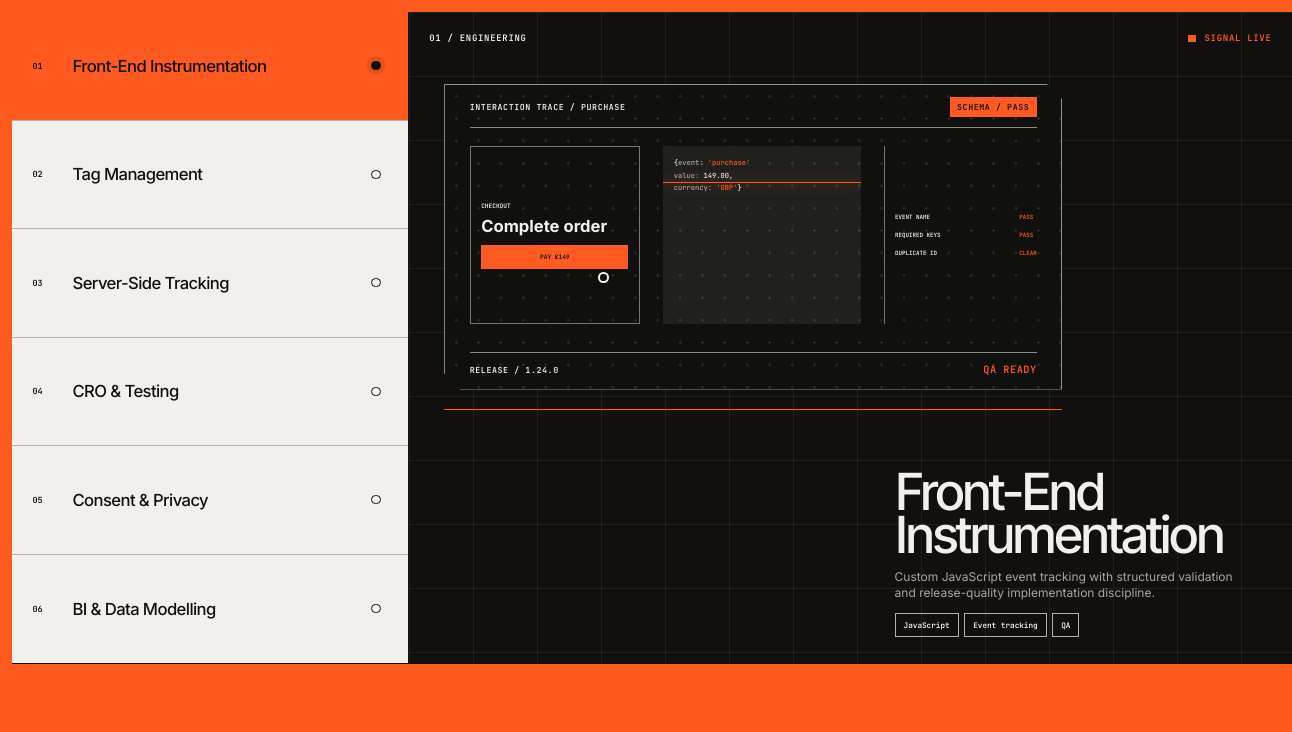
Test: cancels stale outgoing cleanup when selections change rapidly
Click the tab "02 Tag Management": (137, 174) left=12, top=120, right=408, bottom=229
Wait 240 ms
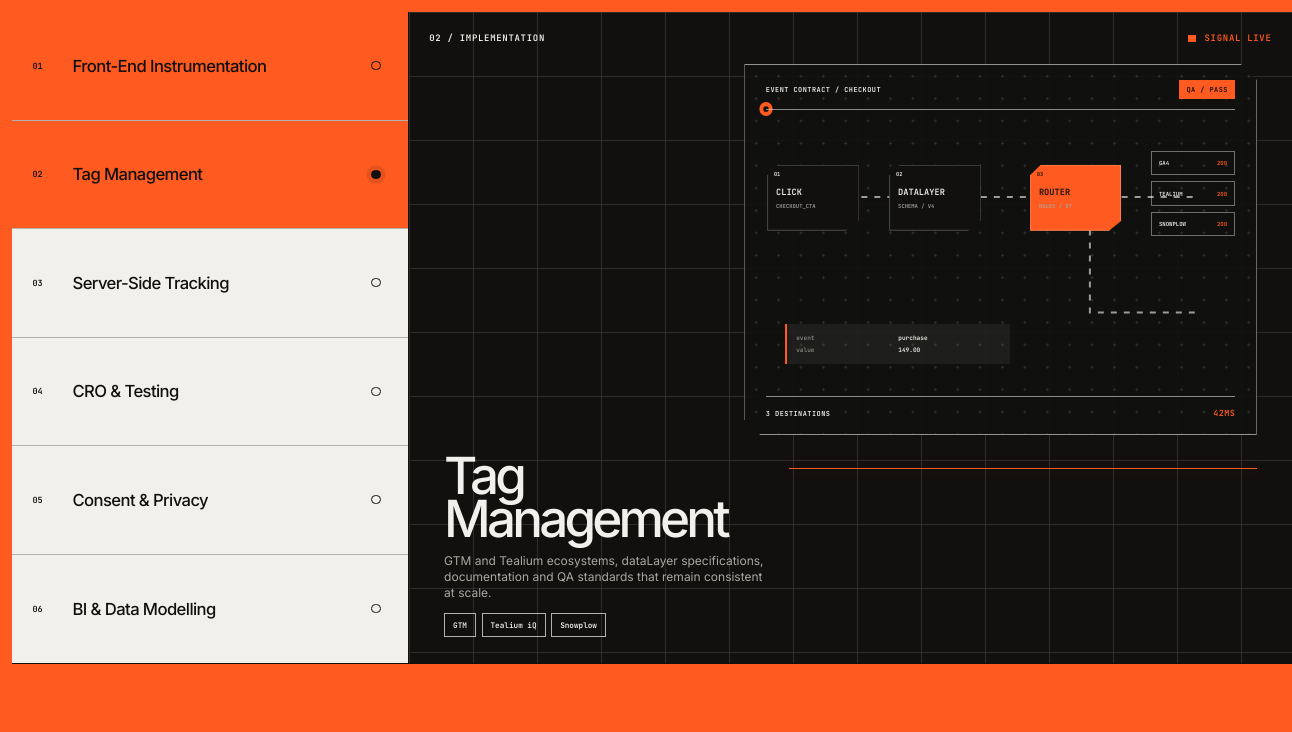
Click the tab "03 Server-Side Tracking": (210, 283) left=12, top=229, right=408, bottom=338
Wait 480 ms
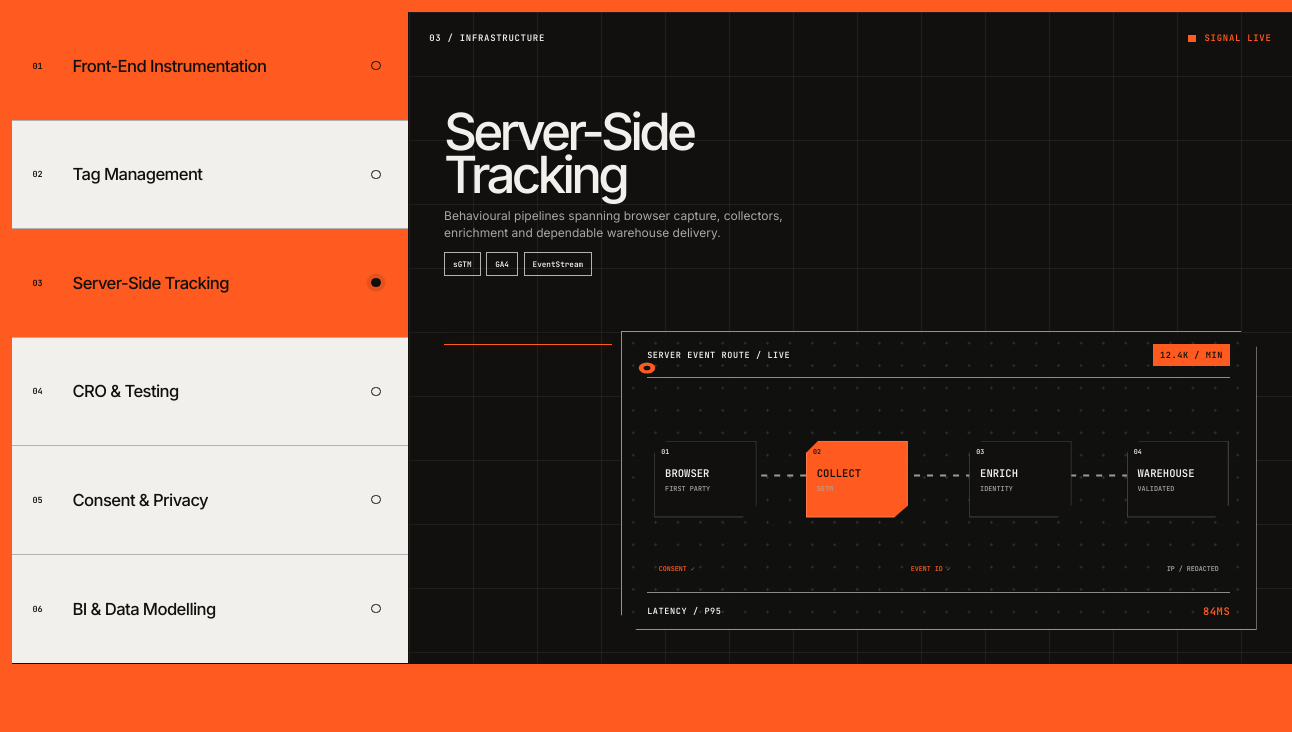
Check: the panel shows "Server-Side Tracking", box left=444, top=100, right=693, bottom=205
